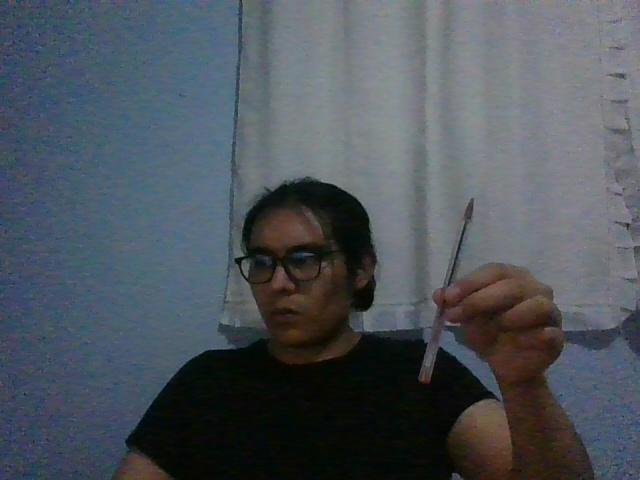pluma: (416, 195, 474, 385)
